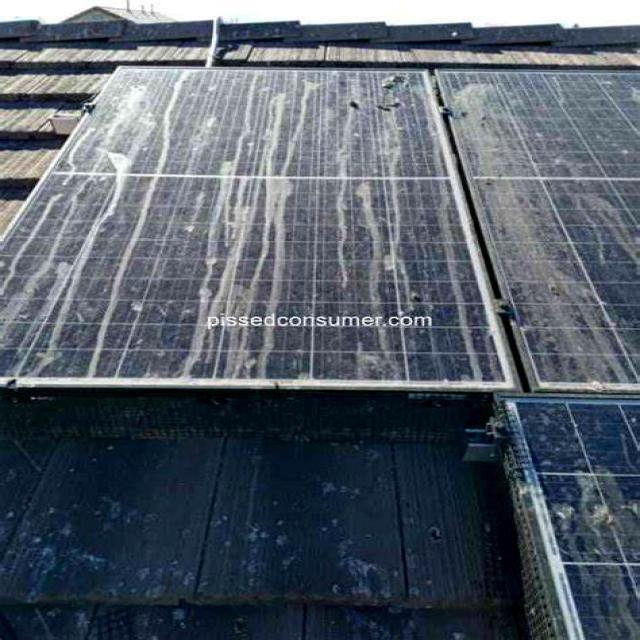bird: (458, 87, 596, 375), (301, 186, 434, 320), (216, 149, 302, 348), (338, 75, 456, 134), (56, 198, 85, 332), (98, 80, 132, 157)
